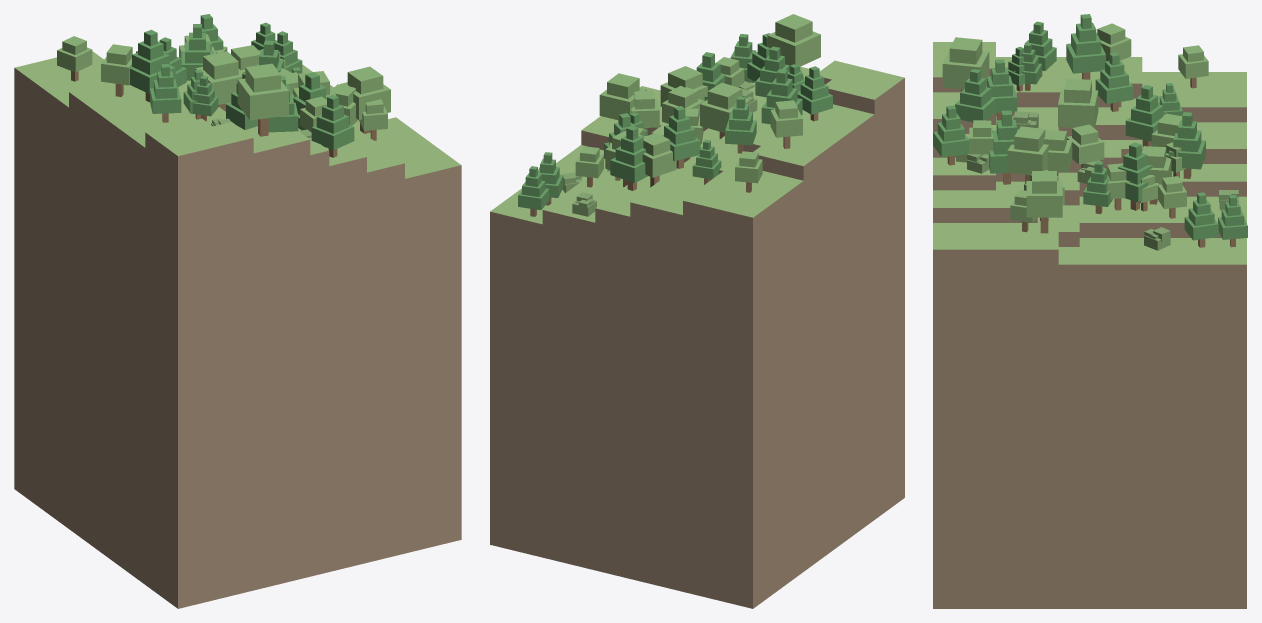
The model's file is block_1_terracing_100.glb.
3 views of the same model, side by side, from view 1: azimuth 30°, elevation 25°; view 2: azimuth 150°, elevation 25°; view 3: azimuth 270°, elevation 25° (orthographic). The views are drawn at different scales.
Parts seen in each view (by area): view 1: Patch_UpperLeft_b02_TR, TR_Veg_01_026, TR_Veg_01_014, TR_Veg_01_004, TR_Veg_01_039, TR_Veg_01_019, TR_Veg_01_000, TR_Veg_01_024, TR_Veg_01_005, TR_Veg_01_021, TR_Veg_01_036, TR_Veg_01_027 (+5 smaller); view 2: Patch_UpperLeft_b02_TR, TR_Veg_01_026, TR_Veg_01_010, TR_Veg_01_039, TR_Veg_01_019, TR_Veg_01_021, TR_Veg_01_025, TR_Veg_01_012, TR_Veg_01_000, TR_Veg_01_024, TR_Veg_01_014, TR_Veg_01_006 (+12 smaller); view 3: Patch_UpperLeft_b02_TR, TR_Veg_01_026, TR_Veg_01_039, TR_Veg_01_019, TR_Veg_01_014, TR_Veg_01_002, TR_Veg_01_022, TR_Veg_01_021, TR_Veg_01_010, TR_Veg_01_012, TR_Veg_01_004, TR_Veg_01_008 (+20 smaller).
Boxes of the visible parts, x1,y1,x2,y2 form: Patch_UpperLeft_b02_TR: (14,51,461,608); TR_Veg_01_026: (237,63,288,136); TR_Veg_01_014: (129,29,175,102); TR_Veg_01_004: (311,95,354,157); TR_Veg_01_039: (195,51,242,111); TR_Veg_01_019: (340,66,390,133); TR_Veg_01_000: (150,64,181,122); TR_Veg_01_024: (101,44,132,96); TR_Veg_01_005: (57,36,92,81); TR_Veg_01_021: (181,24,213,80); TR_Veg_01_036: (189,76,218,121); TR_Veg_01_027: (359,99,387,140); Patch_UpperLeft_b02_TR: (490,60,904,608); TR_Veg_01_026: (767,14,820,66); TR_Veg_01_010: (610,125,647,190); TR_Veg_01_039: (700,82,749,138); TR_Veg_01_019: (599,73,646,122); TR_Veg_01_021: (662,106,700,168); TR_Veg_01_025: (642,133,676,187); TR_Veg_01_012: (725,96,756,153); TR_Veg_01_000: (797,66,832,121); TR_Veg_01_024: (770,100,802,148); TR_Veg_01_014: (761,69,802,124); TR_Veg_01_006: (518,166,549,216); Patch_UpperLeft_b02_TR: (933,42,1246,608); TR_Veg_01_026: (942,37,989,91); TR_Veg_01_039: (1058,79,1098,128); TR_Veg_01_019: (1026,171,1062,233); TR_Veg_01_014: (1066,14,1105,79); TR_Veg_01_002: (1007,126,1048,183); TR_Veg_01_022: (955,69,995,122); TR_Veg_01_021: (1125,85,1163,148); TR_Veg_01_010: (1168,112,1205,178); TR_Veg_01_012: (1095,52,1133,111); TR_Veg_01_004: (933,105,968,165); TR_Veg_01_008: (988,110,1018,184).
Size of the model in its own units: 9.5 by 16.18 by 9.53.
